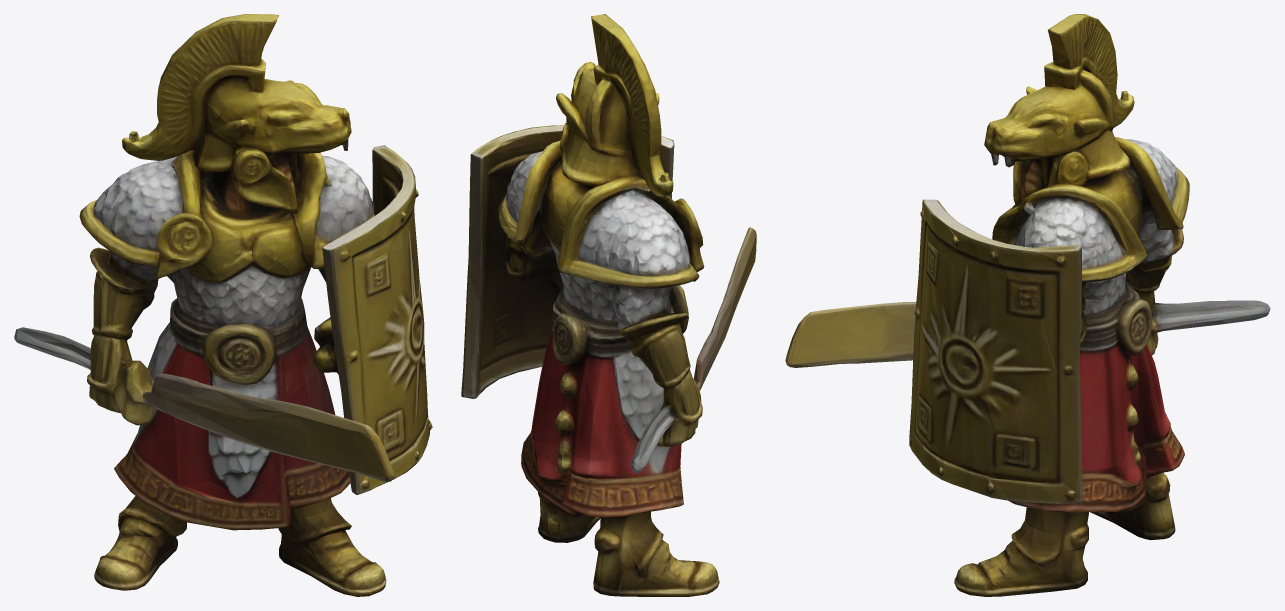
The model's file is palaceGuard.glb.
3 renders of one model, left to right at view 1: azimuth 30°, elevation 25°; view 2: azimuth 150°, elevation 25°; view 3: azimuth 270°, elevation 25°, orthographic. The views are drawn at different scales.
Visible parts, largest first — view 1: world; view 2: world; view 3: world.
Part boxes in pixels (x1,y1,x2,y2): world: [14, 14, 432, 596]; world: [461, 14, 756, 596]; world: [785, 14, 1270, 596].
Bounding box in the file's own units: 0.5498 × 0.9991 × 0.8229.
Materials: 1 (1 with a texture image).
